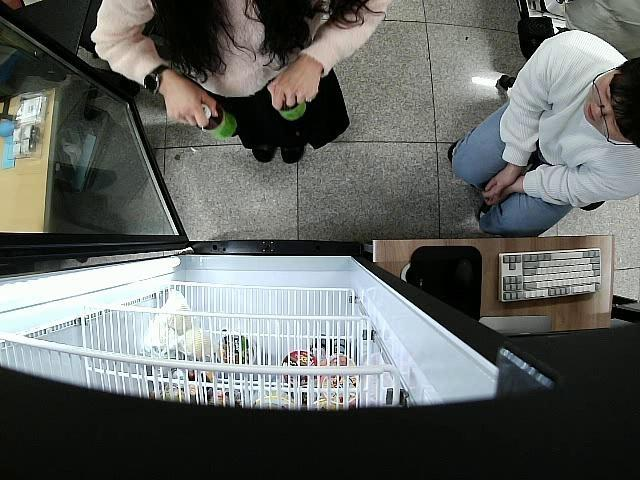19_17cha: (193, 104, 240, 139), (274, 94, 308, 124)
